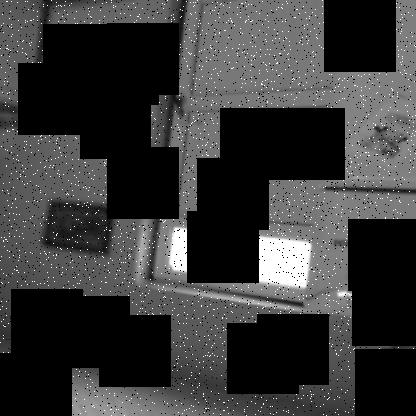Porte: (150, 0, 337, 307)
